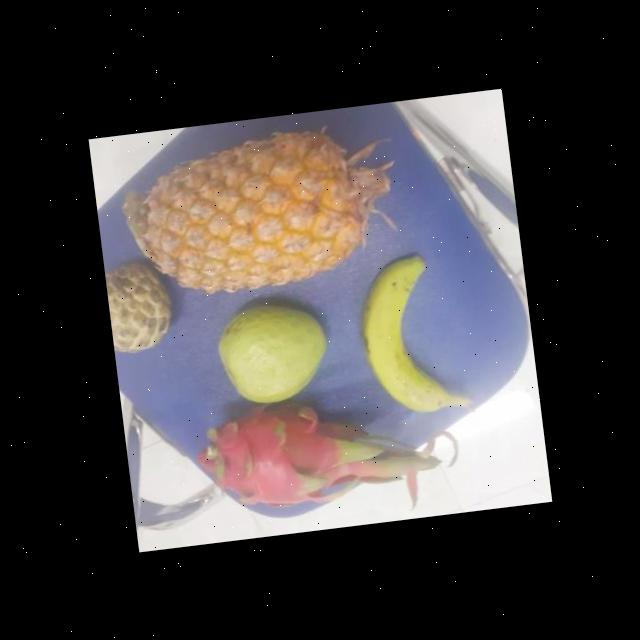Sakya fruit: (104, 256, 183, 354)
banana: (358, 256, 464, 418)
guava: (212, 298, 338, 404)
pineapple: (126, 121, 402, 302)
pitaya: (206, 395, 360, 521)
